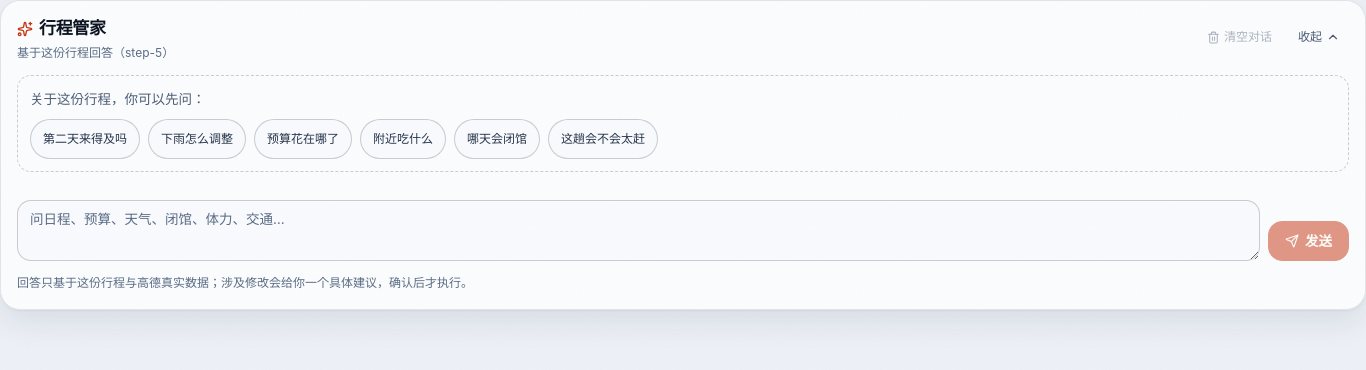
PlanCopilot › 发送中：展示 spinner/已等待秒数，禁用输入与按钮，且不会发起第二个请求
Type "第二天来得及吗" into the text box named "向行程管家提问". click: (638, 231)
box: [17,200,1260,261]
Then press Enter
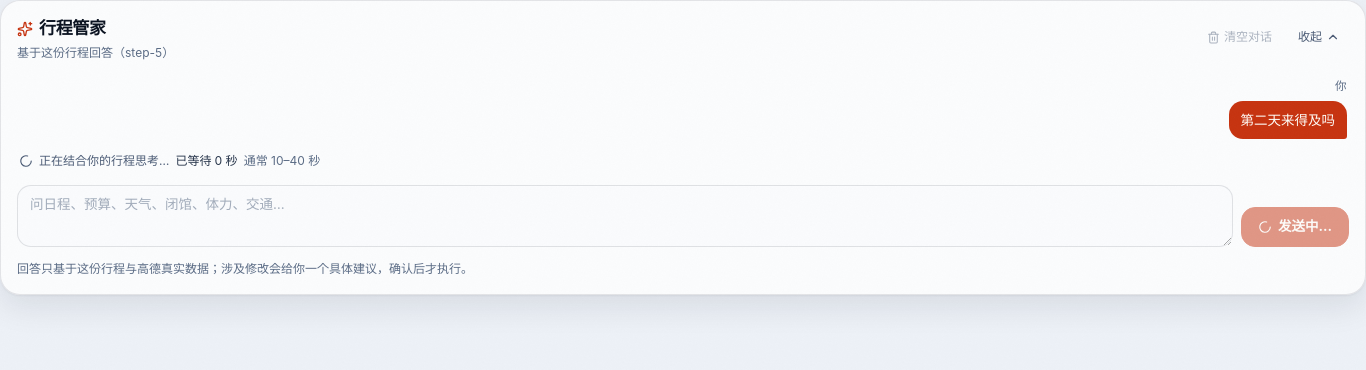
Expected: the text box named "向行程管家提问" is disabled, [17,185,1233,247]
Expected: the text "正在结合你的行程思考…" is shown, [39,151,169,171]
Expected: the text "已等待 0 秒" is shown, [175,151,238,171]
// 等待中再按 Enter：inFlightRef 兜底，请求数不变
Press Enter
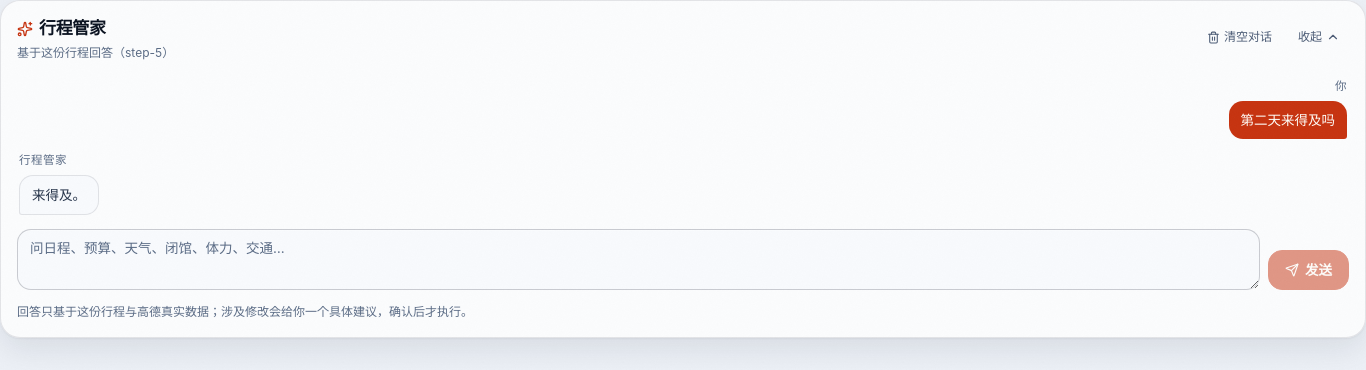
Expected: the text "来得及。" is shown, [19,174,99,215]
Expected: the text box named "向行程管家提问" is enabled, [17,229,1260,290]
